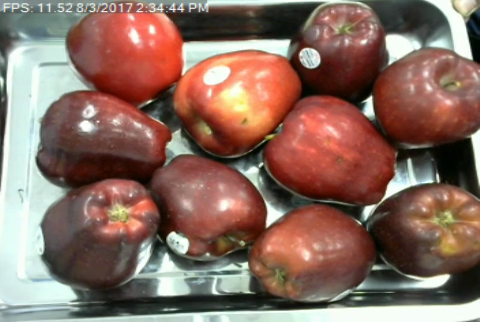Apple: (260, 90, 399, 205), (169, 47, 303, 161), (34, 178, 164, 291), (37, 87, 173, 191), (148, 150, 269, 266), (245, 201, 376, 306), (63, 0, 186, 105), (371, 45, 480, 155), (363, 179, 480, 281), (284, 0, 390, 104)
